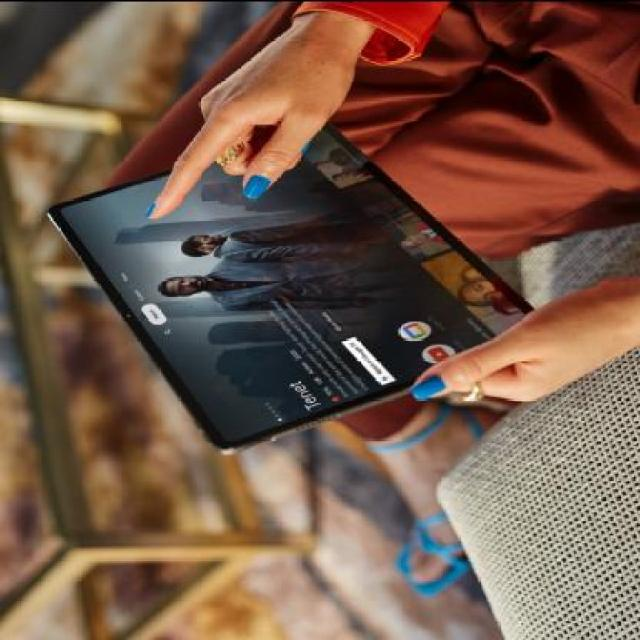tablet: (43, 111, 510, 446)
